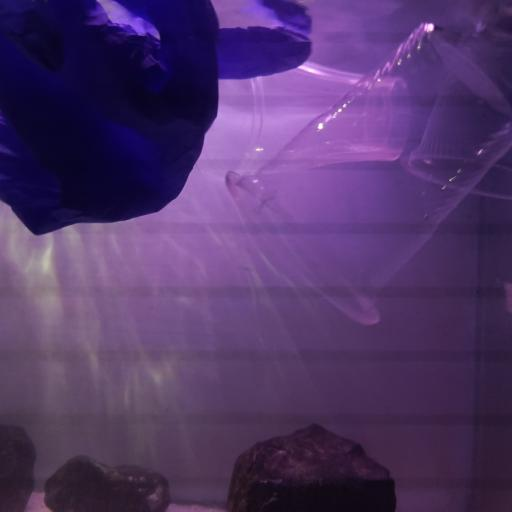glove: (0, 0, 311, 235)
plastic_cup: (223, 24, 512, 327), (196, 60, 410, 182), (400, 29, 512, 201)
